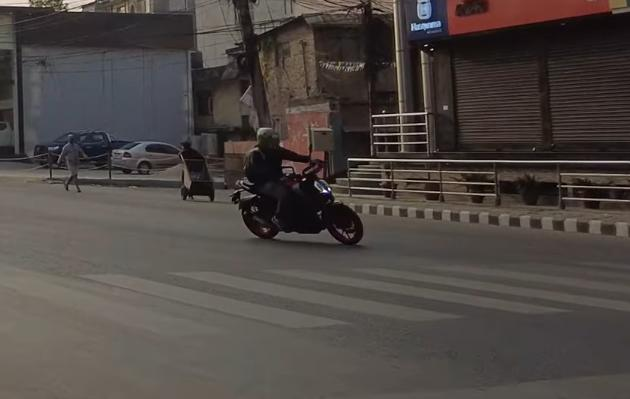bike: (231, 149, 368, 249)
